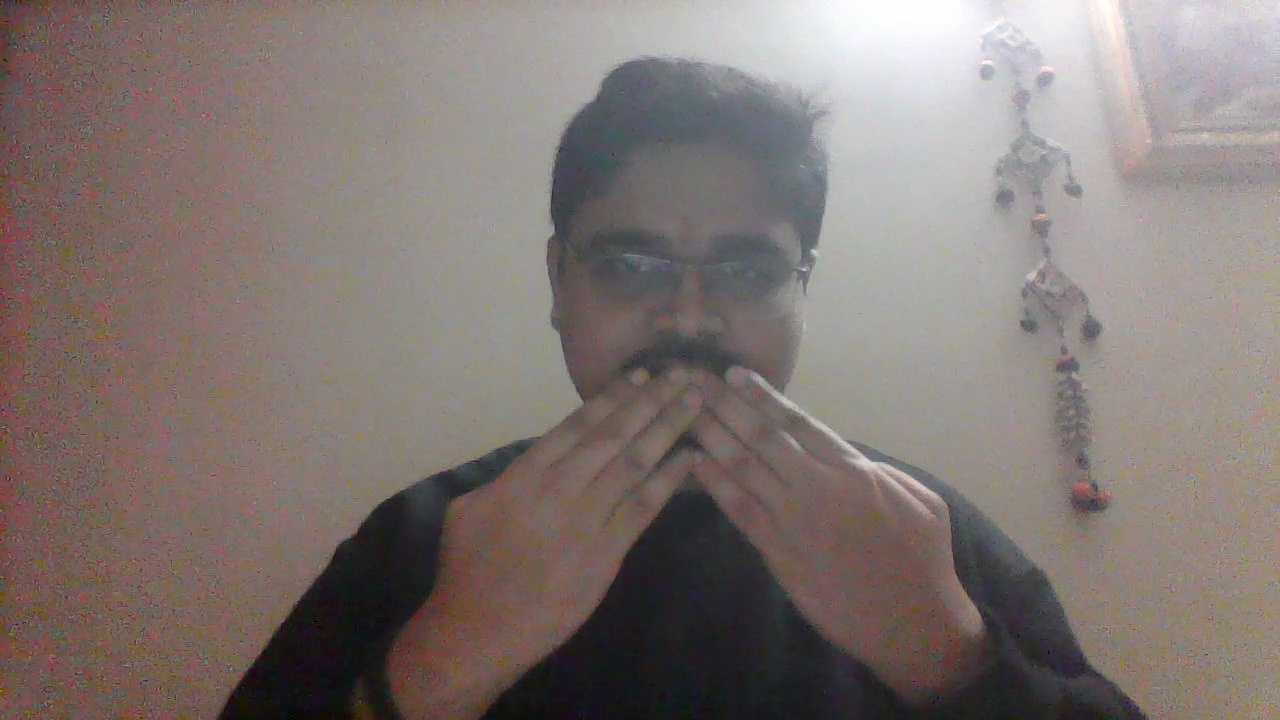Thanks: (427, 357, 957, 684)
